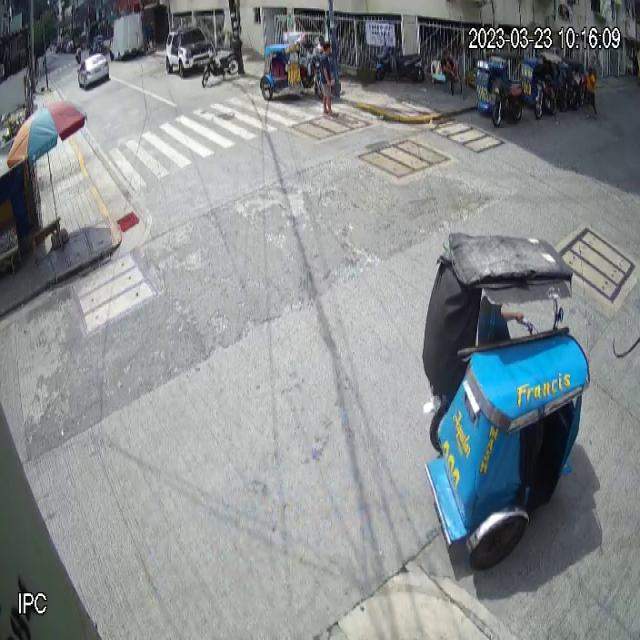Tricycle: (421, 229, 591, 578), (475, 50, 525, 129), (259, 38, 320, 102)
